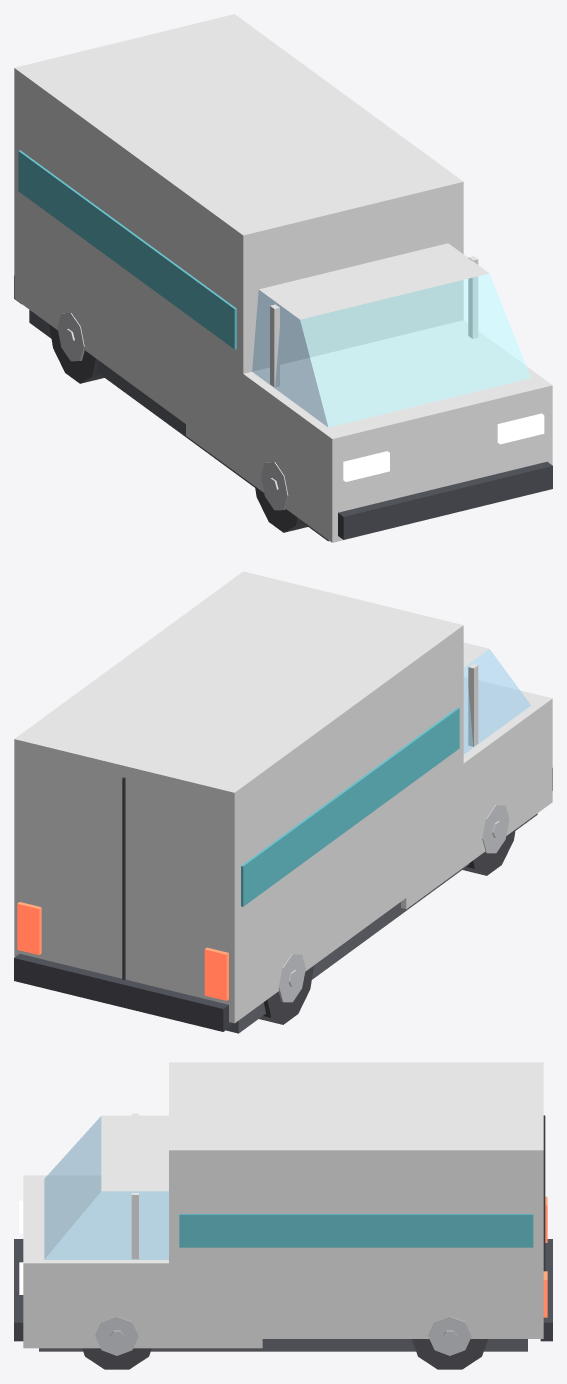
The model's file is van.glb.
The picture shows the model from 3 angles, top to bottom: view 1: azimuth 30°, elevation 25°; view 2: azimuth 150°, elevation 25°; view 3: azimuth 270°, elevation 25°; orthographic projection. The views are drawn at different scales.
Visible parts, largest first — view 1: van, wheel-bl, wheel-fl; view 2: van, wheel-bl, wheel-fl; view 3: van, wheel-br, wheel-fr.
Part boxes in pixels (x1,y1,x2,y2): van: (14,14,552,542); wheel-bl: (49,313,104,383); wheel-fl: (255,462,307,532); van: (14,571,552,1033); wheel-bl: (259,954,313,1024); wheel-fl: (462,805,515,875); van: (14,1062,552,1351); wheel-br: (412,1316,487,1369); wheel-fr: (82,1316,151,1369).
Size of the model in its own units: 2.04 by 2.33 by 5.18.
